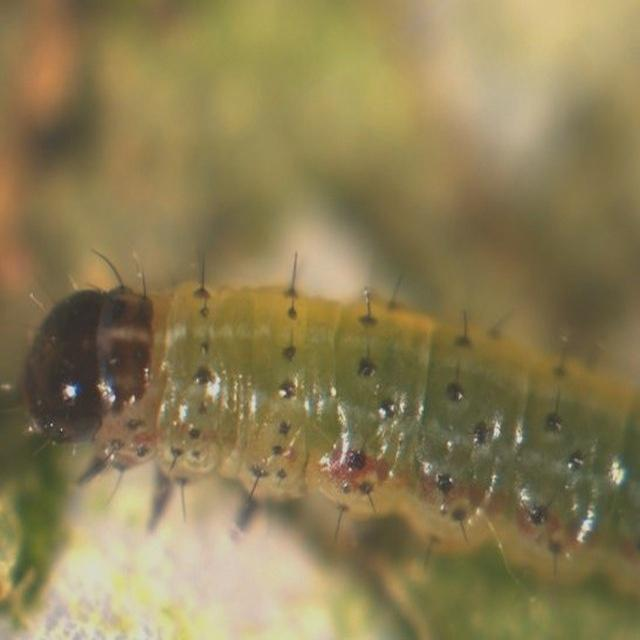gusano_cogollero: (8, 242, 640, 604)
